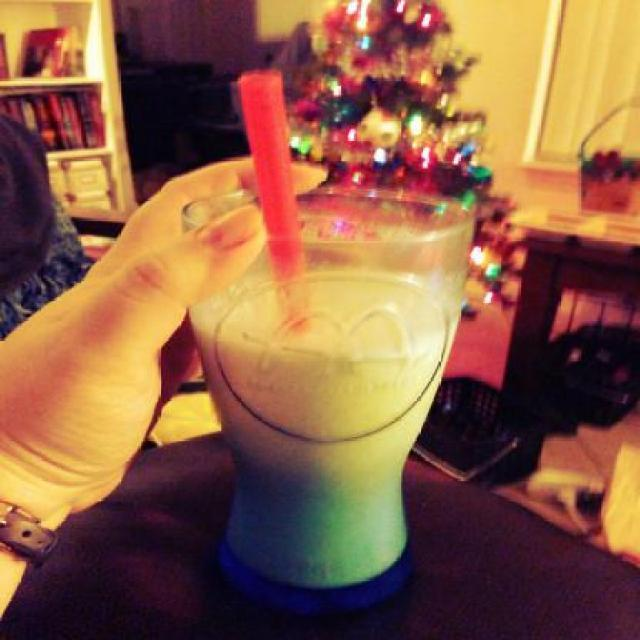Juice: (192, 218, 474, 606)
